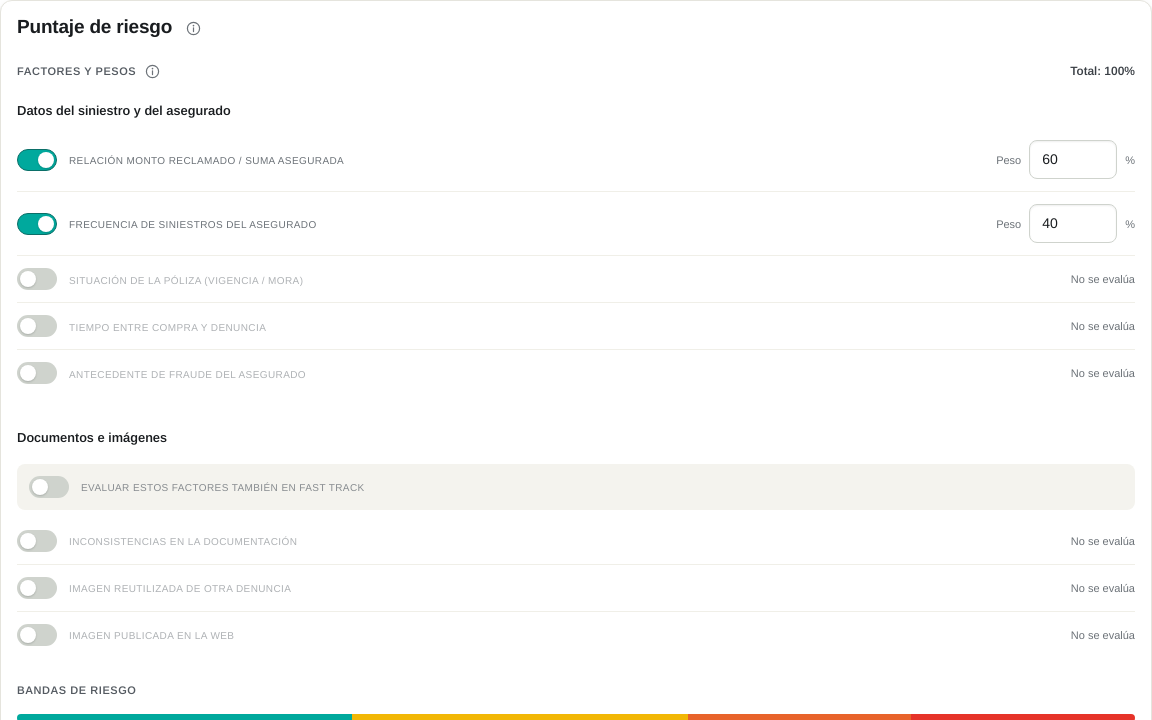
Test: ScoringConfigComponent › blocks the save until the weights add up to 100%
Replace the text in the number field labelled "Peso %" in the row of "Frecuencia de siniestros del asegurado" with "25" at (1073, 224), box [1029,204,1117,244]
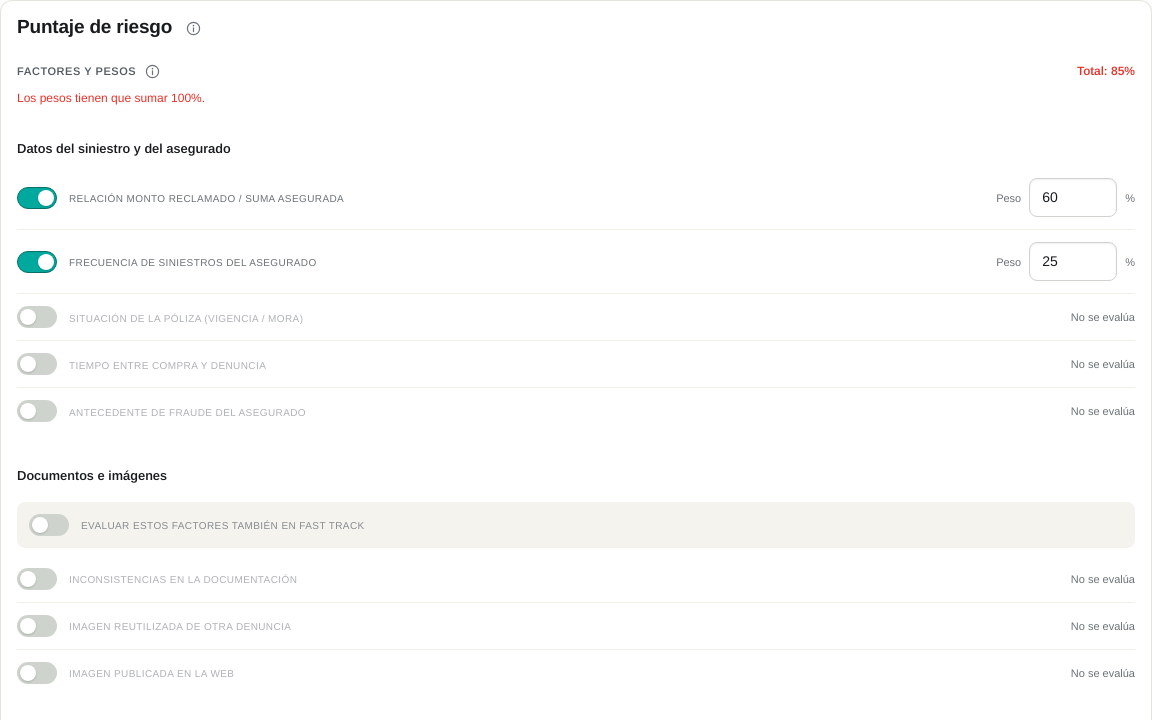
Now the text "Total: 85%" is shown, box [1077,62,1135,80]
Now the message "Los pesos tienen que sumar 100%." is shown, box [17,91,205,105]
Replace the text in the 1st number field labelled "Peso %" with "75" at (1073, 198), box [1029,178,1117,218]
(page scrolled)
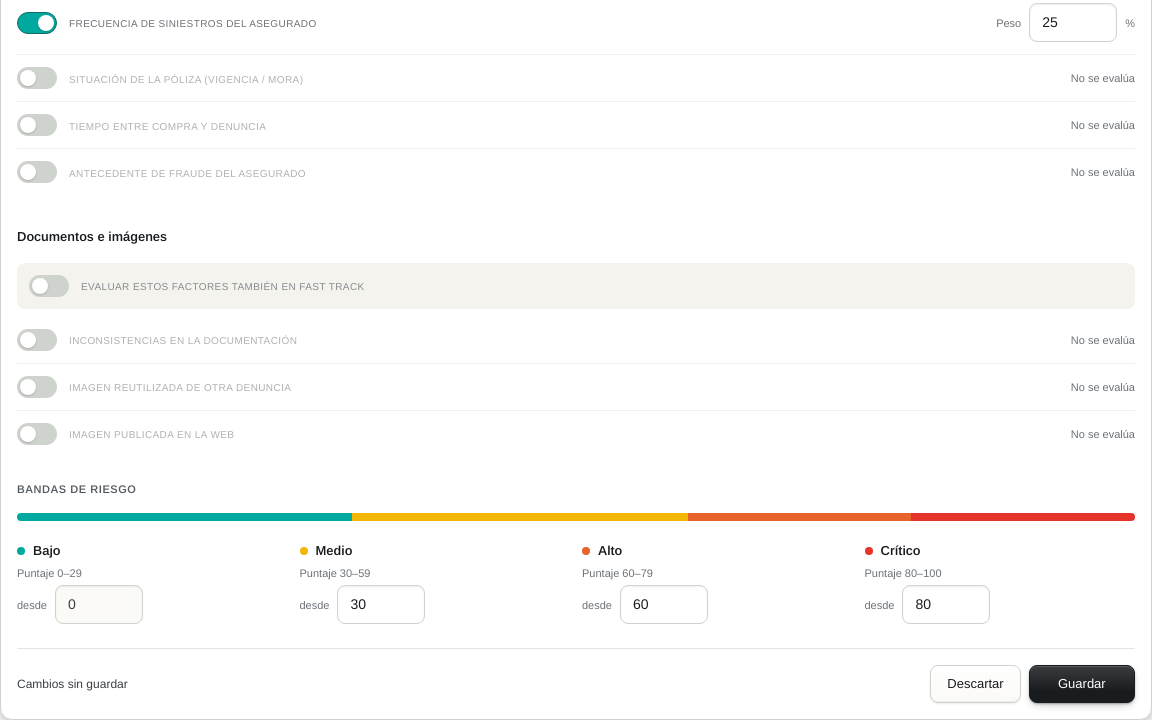
Now the message "Los pesos tienen que sumar 100%." is gone
Now the button "Guardar" is enabled, box [1029,666,1135,703]
